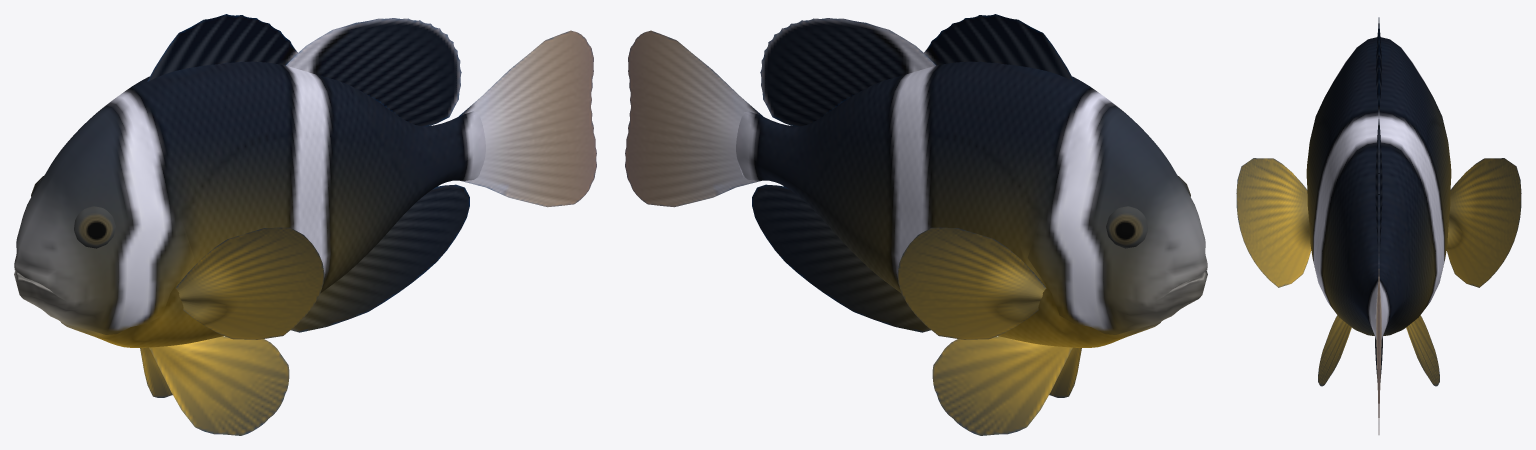
File: Kumanomi0.obj
The picture shows the model from 3 angles, left to right: view 1: azimuth 30°, elevation 25°; view 2: azimuth 150°, elevation 25°; view 3: azimuth 270°, elevation 25°; orthographic projection. The views are drawn at different scales.
Visible parts, largest first — view 1: object, object9, object4, object3, object6, object8, object2, object10, object7; view 2: object, object9, object5, object3, object7, object8, object2, object11, object6; view 3: object, object4, object5, object6, object7, object3, object9, object2.
Boxes of the visible parts, bbox=[...] form: object: bbox=[14, 61, 485, 347]; object9: bbox=[458, 30, 596, 207]; object4: bbox=[175, 227, 324, 339]; object3: bbox=[286, 18, 461, 126]; object6: bbox=[149, 336, 289, 435]; object8: bbox=[291, 184, 469, 332]; object2: bbox=[147, 14, 297, 81]; object10: bbox=[74, 206, 115, 248]; object7: bbox=[140, 347, 172, 397]; object: bbox=[736, 61, 1207, 347]; object9: bbox=[625, 30, 763, 207]; object5: bbox=[897, 227, 1046, 339]; object3: bbox=[760, 18, 935, 126]; object7: bbox=[932, 336, 1072, 435]; object8: bbox=[752, 184, 930, 332]; object2: bbox=[924, 14, 1074, 81]; object11: bbox=[1106, 206, 1147, 248]; object6: bbox=[1049, 347, 1081, 397]; object: bbox=[1306, 37, 1451, 339]; object4: bbox=[1236, 158, 1311, 287]; object5: bbox=[1446, 158, 1521, 287]; object6: bbox=[1318, 315, 1351, 386]; object7: bbox=[1406, 315, 1439, 386]; object3: bbox=[1375, 112, 1382, 268]; object9: bbox=[1375, 269, 1382, 434]; object2: bbox=[1376, 17, 1381, 111].
Bounding box in the file's own units: 0.4 × 0.2607 × 0.1856.
